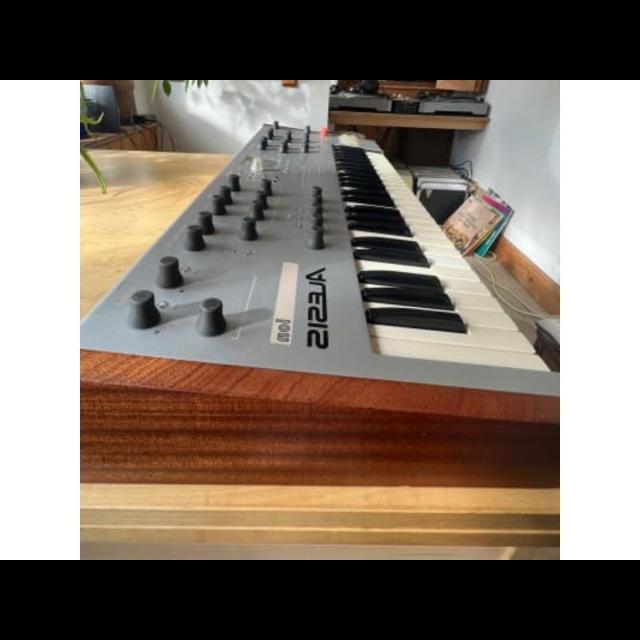Electronic-Keyboard: (92, 110, 550, 490)
